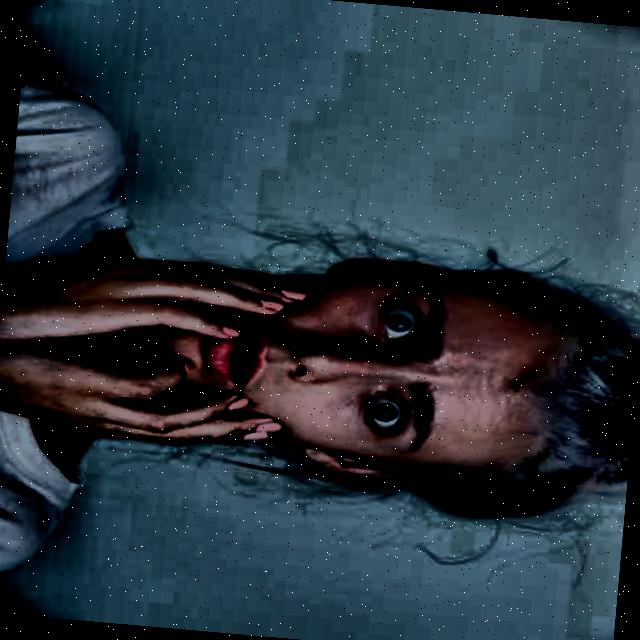fear: (129, 222, 640, 522)
